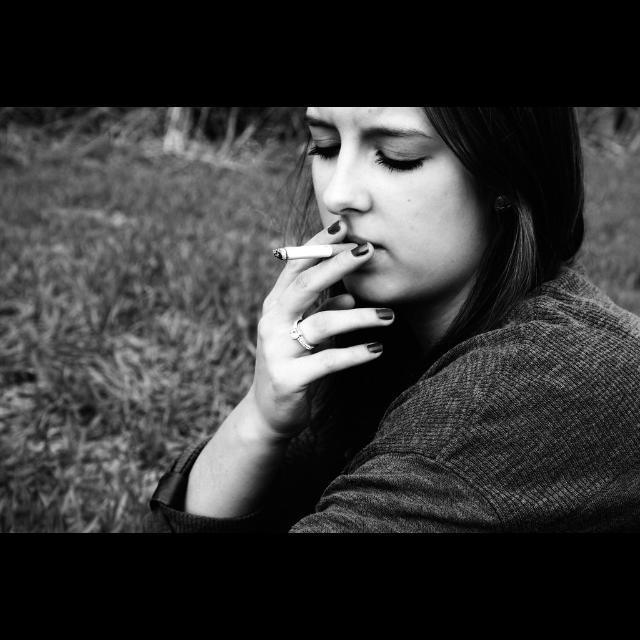rokok: (263, 239, 367, 269)
